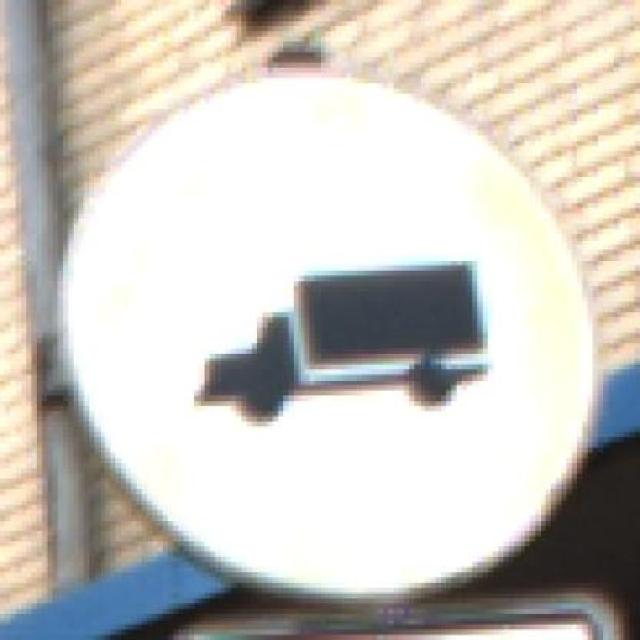Truck traffic is prohibited: (52, 36, 625, 609)
